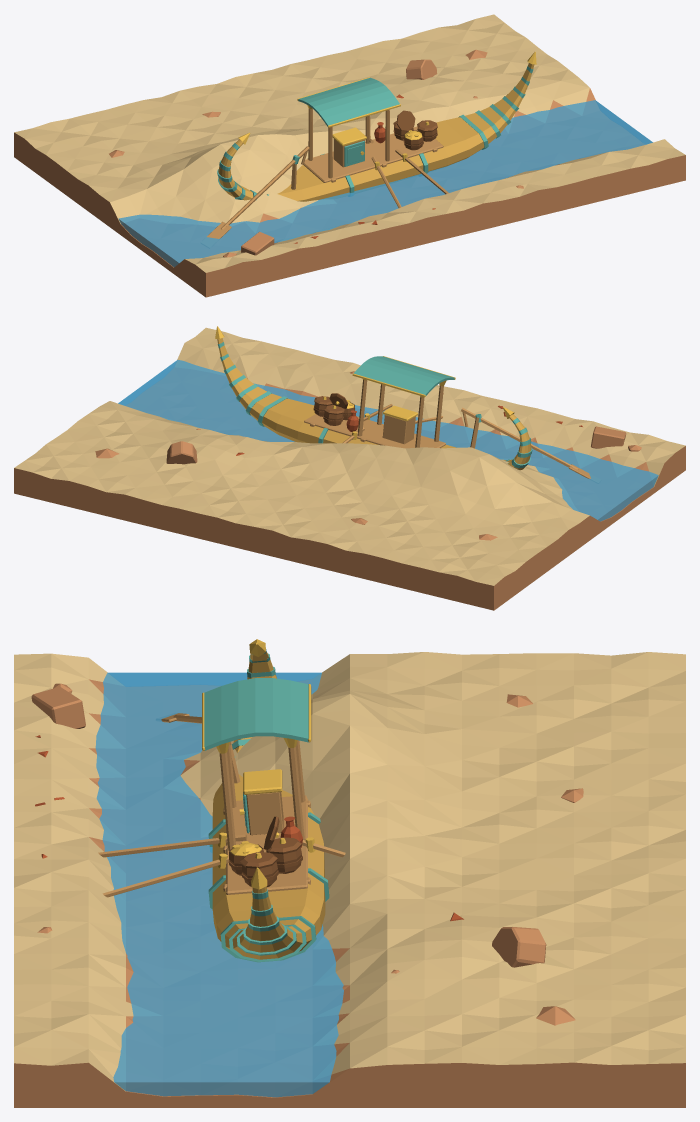
File: buried-reed-boat.glb
3 views of the same model, one above another, from view 1: azimuth 30°, elevation 25°; view 2: azimuth 150°, elevation 25°; view 3: azimuth 270°, elevation 25° (orthographic). The views are drawn at different scales.
Parts seen in each view (by area): view 1: Ground_RiverBank, River_Water, Hull_Reeds, Canopy_Roof, Deck, Hull_Bindings, Ruin_Stones, Canopy_Posts, SteeringOar, Shrine_Door; view 2: Ground_RiverBank, River_Water, Hull_Reeds, Canopy_Roof, Deck, Ruin_Stones, Hull_Bindings, Canopy_Posts, Shrine, SteeringOar, Loose_Stones; view 3: Ground_RiverBank, River_Water, Hull_Reeds, Canopy_Roof, Ruin_Stones, Hull_Bindings, Deck, Canopy_Posts, Shrine, Loose_Stones, Shrine_Gold, Oar_Port_Rear (+1 smaller).
Boxes of the visible parts, x1,y1,x2,y2 form: Ground_RiverBank: (14, 14, 685, 297); River_Water: (118, 100, 652, 267); Hull_Reeds: (218, 63, 534, 201); Canopy_Roof: (298, 77, 399, 126); Deck: (303, 126, 443, 182); Hull_Bindings: (217, 65, 533, 200); Ruin_Stones: (241, 59, 437, 255); Canopy_Posts: (308, 108, 389, 178); SteeringOar: (201, 146, 309, 247); Shrine_Door: (344, 141, 364, 166); Ground_RiverBank: (14, 327, 685, 610); River_Water: (118, 360, 658, 521); Hull_Reeds: (217, 338, 531, 470); Canopy_Roof: (353, 356, 454, 395); Deck: (304, 414, 445, 448); Ruin_Stones: (166, 426, 626, 464); Hull_Bindings: (217, 342, 532, 468); Canopy_Posts: (358, 380, 443, 447); Shrine: (382, 415, 415, 444); SteeringOar: (461, 407, 600, 483); Loose_Stones: (95, 371, 641, 540); Ground_RiverBank: (14, 652, 685, 1107); River_Water: (95, 672, 343, 1097); Hull_Reeds: (212, 652, 325, 959); Canopy_Roof: (204, 678, 308, 750); Ruin_Stones: (31, 687, 546, 967); Hull_Bindings: (208, 649, 329, 962); Deck: (223, 795, 310, 894); Canopy_Posts: (219, 740, 305, 850); Shrine: (246, 792, 283, 835); Loose_Stones: (37, 683, 583, 1025); Shrine_Gold: (243, 769, 282, 794); Oar_Port_Rear: (98, 834, 246, 857).
Bounding box in the file's own units: 52 × 10.47 × 36.
